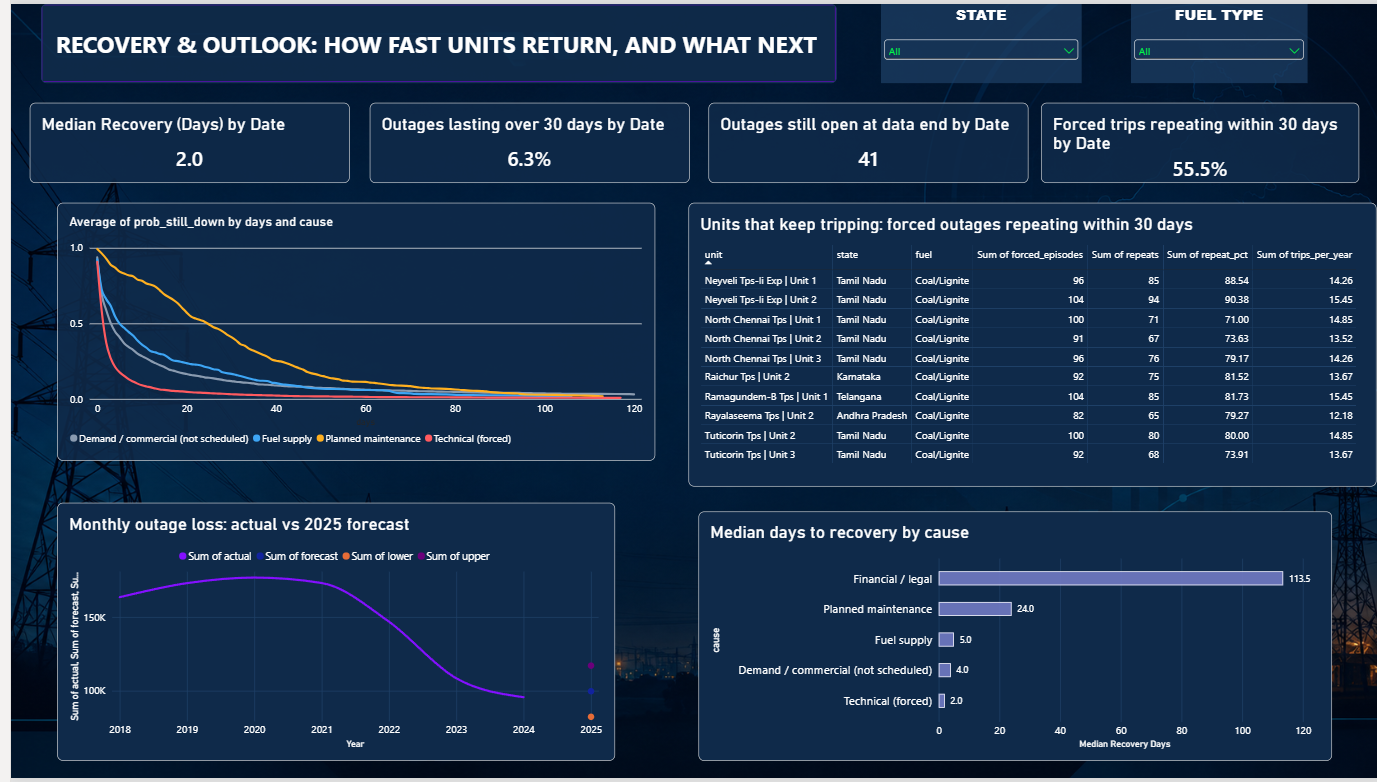

This screenshot's page, from the dashboard's own definition file:
{"tool":"powerbi","page":{"name":"Recovery and reliability","canvas":[1920,1080],"ordinal":2},"visuals":[{"type":"shape","box":[42,0,1110,110],"z":0},{"type":"slicer","title":"FUEL TYPE","fields":{"Values":["Dim_Fuel.fuel_type"]},"box":[1562,0,246,110],"z":2000},{"type":"slicer","title":"STATE","fields":{"Values":["Dim_State.state_name"]},"box":[1214,0,280,110],"z":3000},{"type":"kpi","fields":{"Indicator":["_Measures.Median Recovery Days"],"TrendLine":["Dim_Date.Date"]},"box":[26,138,446,112],"z":3001},{"type":"kpi","fields":{"Indicator":["_Measures.Share Over 30d %"],"TrendLine":["Dim_Date.Date"]},"box":[500,138,446,112],"z":3002},{"type":"kpi","fields":{"Indicator":["_Measures.Repeat Trip %"],"TrendLine":["Dim_Date.Date"]},"box":[1438,138,444,112],"z":3003},{"type":"kpi","fields":{"Indicator":["_Measures.Ongoing Outages"],"TrendLine":["Dim_Date.Date"]},"box":[974,138,446,112],"z":3004},{"type":"lineChart","fields":{"Category":["km_curves.days"],"Series":["km_curves.cause"],"Y":["Avg(km_curves.prob_still_down)"]},"box":[64,278,834,360],"z":3005},{"type":"clusteredBarChart","title":"Median days to recovery by cause","fields":{"Category":["episodes.cause"],"Y":["_Measures.Median Recovery Days"]},"box":[960,708,884,348],"z":3006},{"type":"tableEx","title":"Units that keep tripping: forced outages repeating within 30 days","fields":{"Values":["repeat_units.unit","repeat_units.state","repeat_units.fuel","Sum(repeat_units.forced_episodes)","Sum(repeat_units.repeats)","Sum(repeat_units.repeat_pct)","Sum(repeat_units.trips_per_year)"]},"box":[946,278,960,396],"z":3007},{"type":"lineChart","title":"Monthly outage loss: actual vs 2025 forecast","fields":{"Category":["forecast.month.Variation.Date Hierarchy.Year","forecast.month.Variation.Date Hierarchy.Quarter","forecast.month.Variation.Date Hierarchy.Month","forecast.month.Variation.Date Hierarchy.Day"],"Y":["Sum(forecast.actual)","Sum(forecast.forecast)","Sum(forecast.lower)","Sum(forecast.upper)"]},"box":[64,696,778,360],"z":3008}]}

Visuals, with their boxes in screenshot pixels (x1, y1, x2, y2), scaled from the page's 1920x1080 canvas onto the 1377x782 screenshot:
shape: left=30, top=0, right=826, bottom=80
"FUEL TYPE" slicer: left=1120, top=0, right=1297, bottom=80
"STATE" slicer: left=871, top=0, right=1071, bottom=80
kpi - _Measures.Median Recovery Days x Dim_Date.Date: left=19, top=100, right=339, bottom=181
kpi - _Measures.Share Over 30d % x Dim_Date.Date: left=359, top=100, right=678, bottom=181
kpi - _Measures.Repeat Trip % x Dim_Date.Date: left=1031, top=100, right=1350, bottom=181
kpi - _Measures.Ongoing Outages x Dim_Date.Date: left=699, top=100, right=1018, bottom=181
lineChart - km_curves.days x km_curves.cause: left=46, top=201, right=644, bottom=462
"Median days to recovery by cause" clusteredBarChart: left=688, top=513, right=1322, bottom=765
"Units that keep tripping: forced outages repeating within 30 days" tableEx: left=678, top=201, right=1367, bottom=488
"Monthly outage loss: actual vs 2025 forecast" lineChart: left=46, top=504, right=604, bottom=765
